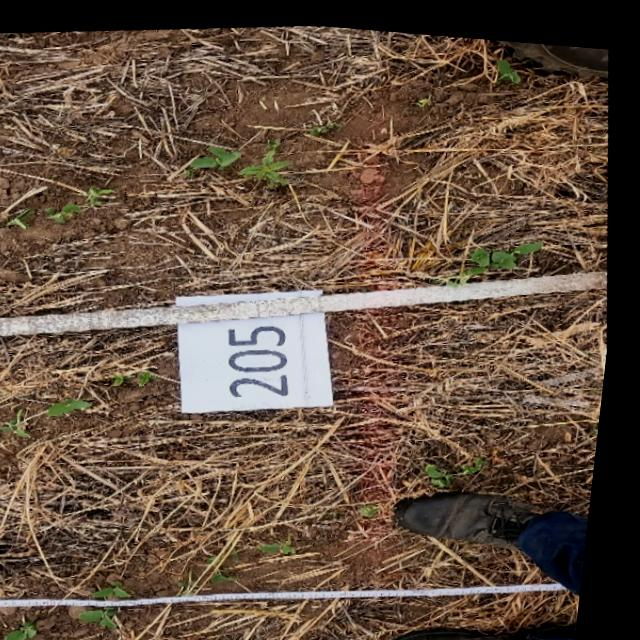caruru_weed: (243, 136, 292, 181)
soy_plant: (469, 231, 547, 265), (50, 183, 117, 221), (435, 448, 497, 479), (193, 141, 243, 164), (8, 406, 39, 435), (92, 602, 130, 624), (14, 618, 50, 640), (56, 394, 100, 412), (270, 529, 308, 547), (122, 366, 164, 382), (106, 576, 143, 593), (498, 49, 520, 73), (369, 495, 392, 509)
